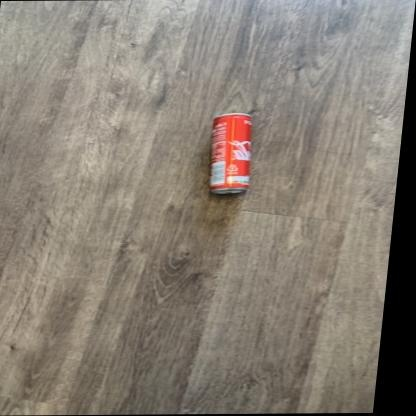trash: (209, 113, 251, 193)
